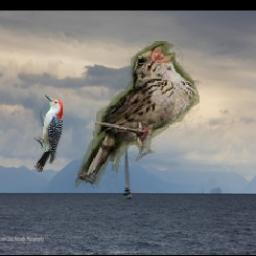Sparrow: (76, 41, 201, 188)
Woodpecker: (33, 94, 63, 172)
